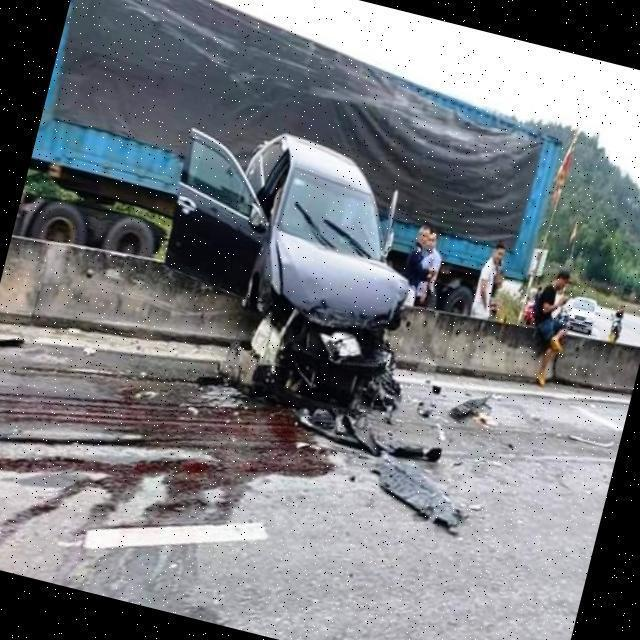accident: (137, 89, 475, 471)
